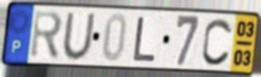0: (101, 12, 130, 64)
7: (175, 13, 201, 68)
C: (200, 17, 235, 68)
L: (131, 15, 158, 63)
R: (29, 9, 65, 62)
U: (61, 11, 97, 62)
